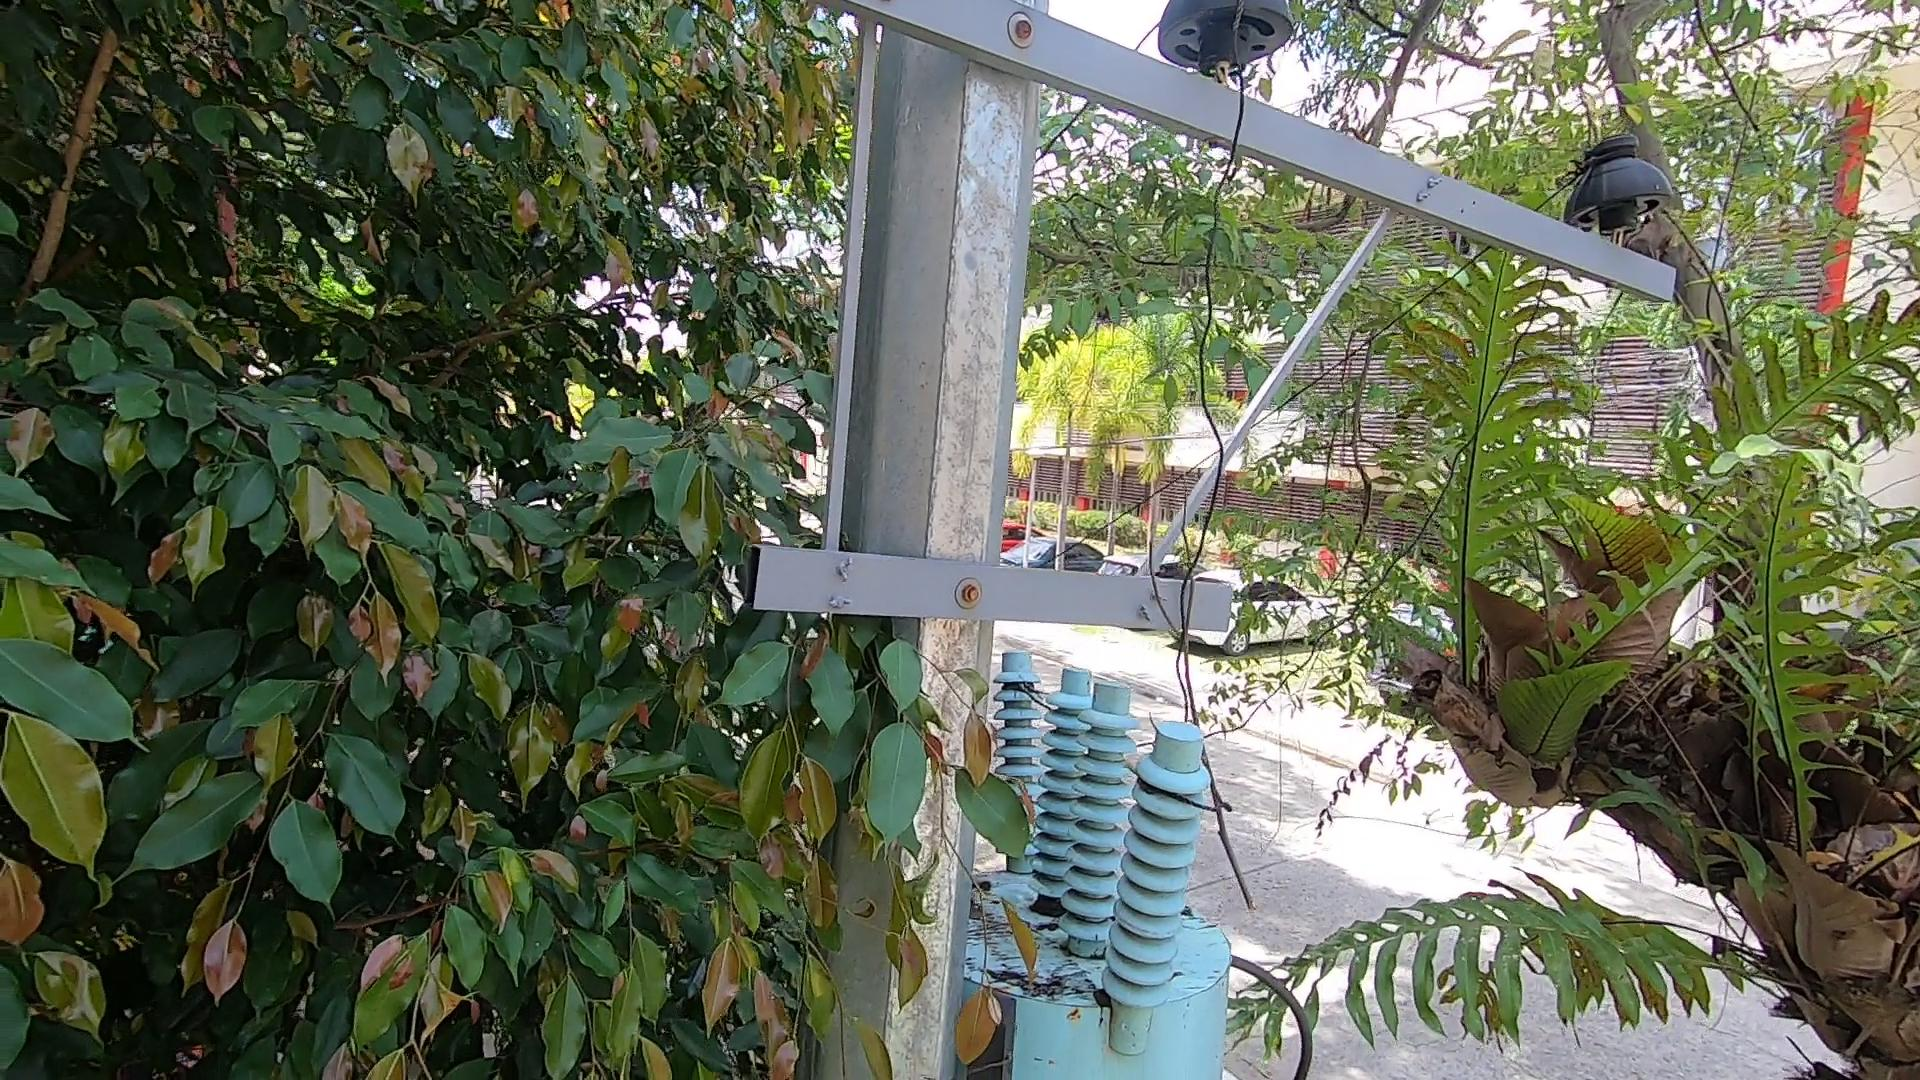tree branch: (1145, 468, 1263, 920)
